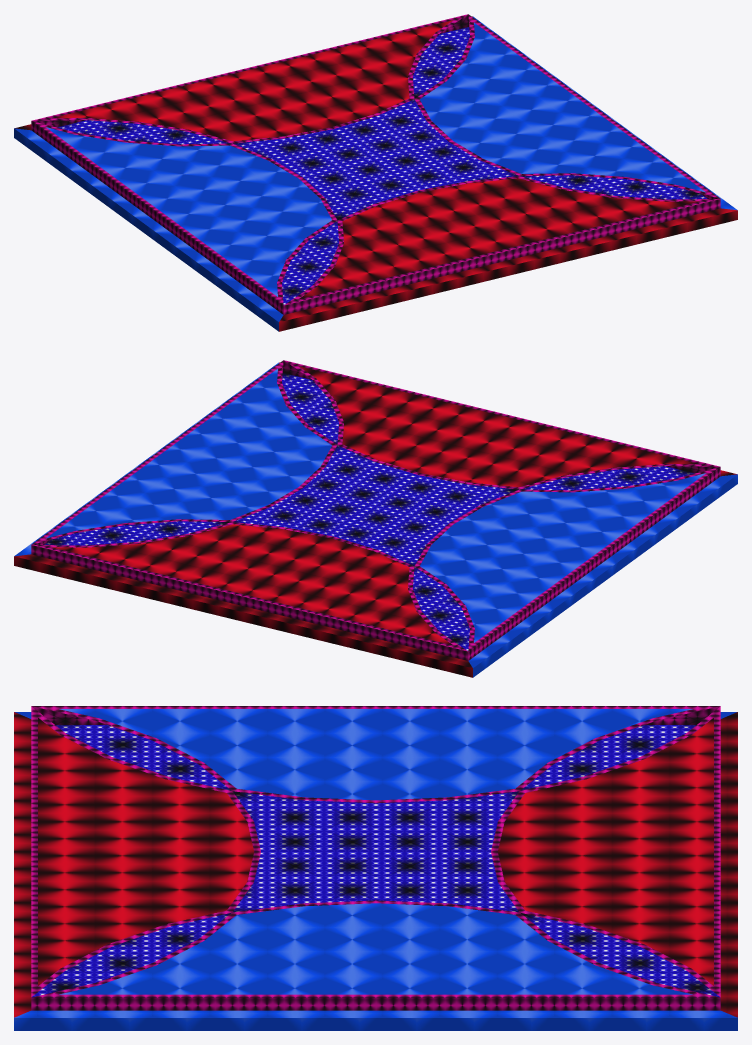
Rendered from dance_floor_two.glb.
3 views of the same model, one above another, from view 1: azimuth 30°, elevation 25°; view 2: azimuth 150°, elevation 25°; view 3: azimuth 270°, elevation 25° (orthographic). The views are drawn at different scales.
Visible parts, largest first — view 1: Material3 (×11), Material2 (×10); view 2: Material3 (×11), Material2 (×10); view 3: Material3 (×10), Material2 (×11).
Boxes of the visible parts, left/top/right/bottom form: Material3 (×11): left=14, top=16, right=737, bottom=331; Material2 (×10): left=14, top=14, right=719, bottom=331; Material3 (×11): left=14, top=362, right=737, bottom=677; Material2 (×10): left=32, top=360, right=737, bottom=677; Material3 (×10): left=14, top=709, right=737, bottom=1017; Material2 (×11): left=14, top=706, right=737, bottom=1030.
Size of the model in its own units: 49.61 by 1.97 by 49.61.
Materials: 10 (8 with a texture image).
